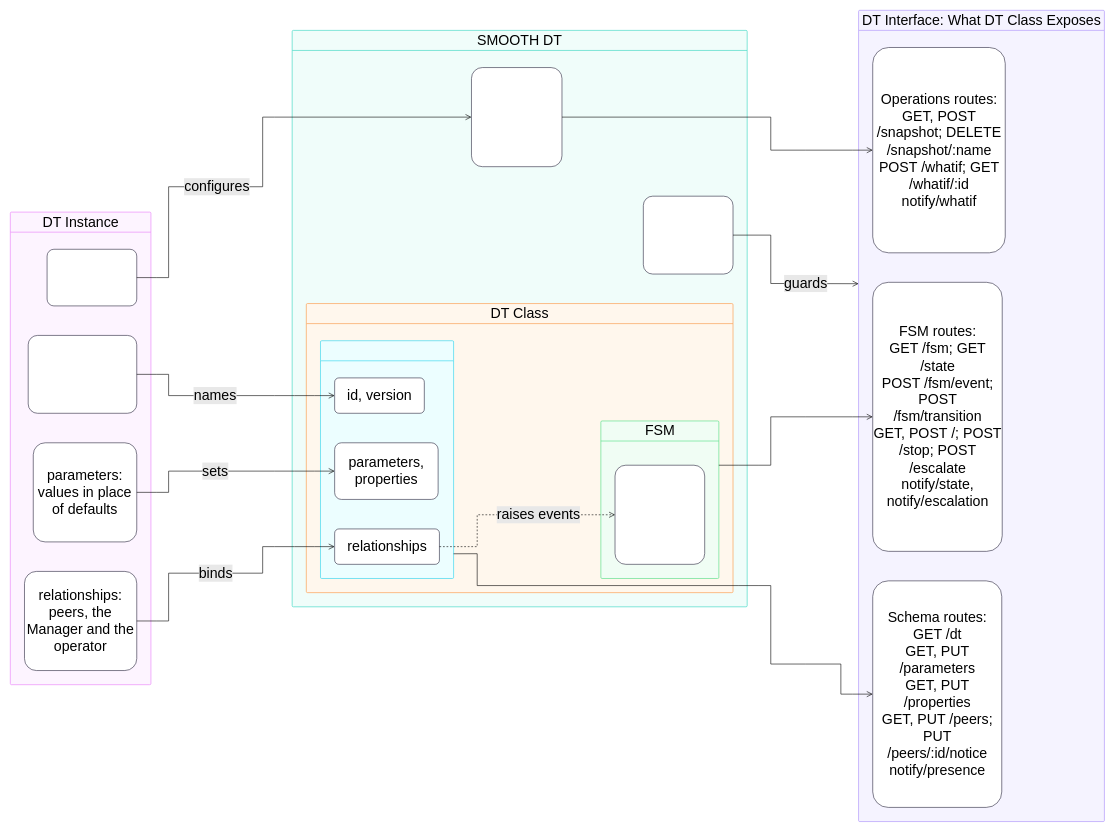
Image size: 1115x832. Some labels were removed from this diagram. The shapes that lost their labels are listed below. From the top down, each one's box as (x1, y1, x2, y2) in pixels, then its label:
(471, 67, 562, 167): backup, restore, what-if operations
(643, 196, 733, 274): auth: principals and key
(46, 249, 137, 306): database, snapshots
(28, 335, 137, 413): id, attributes, stateMachine
(320, 340, 454, 578): Schema
(614, 465, 705, 564): states, events and behaviors
